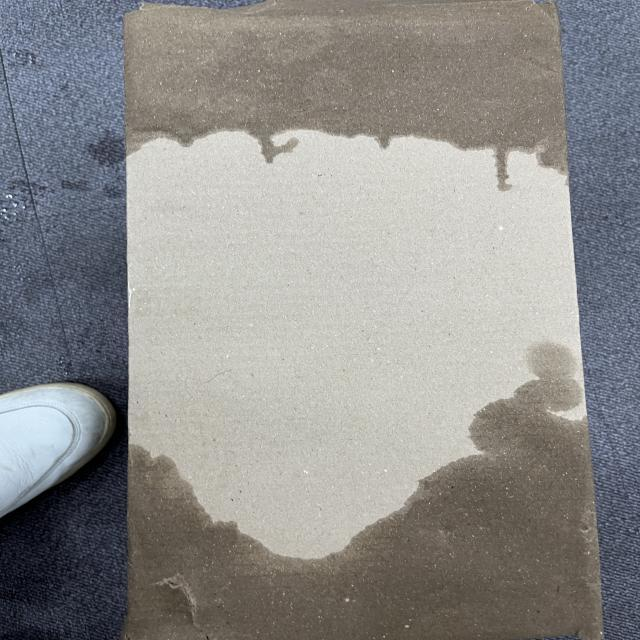wet: (128, 344, 601, 638), (111, 7, 605, 163)
